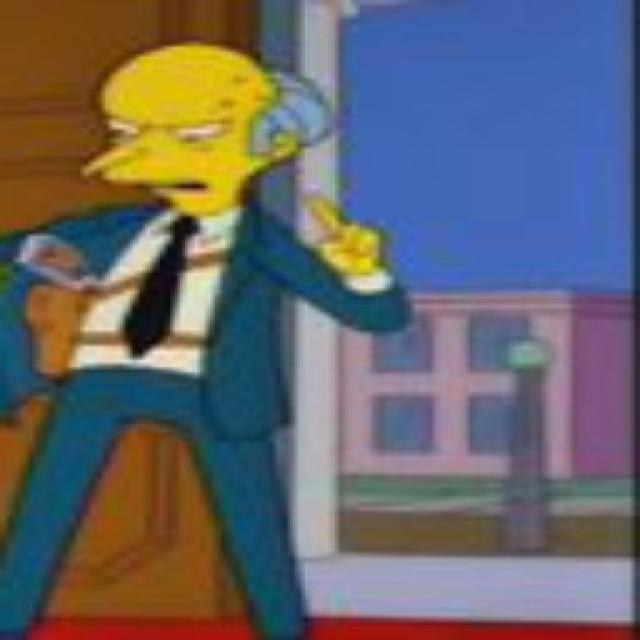Charles Montgomery Burns: (70, 44, 340, 221)
